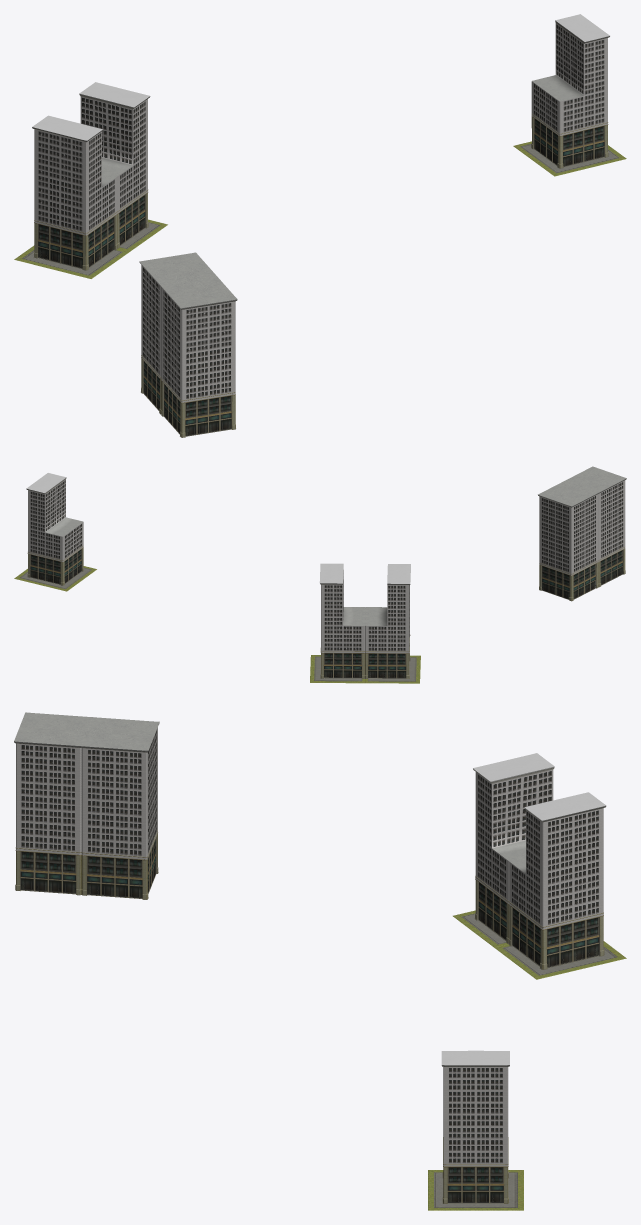
The model's file is Monaco_track_building_city_01.dae.
3 views of the same model, one above another, from view 1: azimuth 30°, elevation 25°; view 2: azimuth 150°, elevation 25°; view 3: azimuth 270°, elevation 25° (orthographic). The views are drawn at different scales.
Parts seen in each view (by area): view 1: building_city_01_02, building_city_01_01, building_city_01_03; view 2: building_city_01_01, building_city_01_02, building_city_01_03; view 3: building_city_01_01, building_city_01_02, building_city_01_03.
Boxes of the visible parts, x1,y1,x2,y2 form: building_city_01_02: (14, 82, 167, 278); building_city_01_01: (139, 252, 237, 437); building_city_01_03: (513, 14, 626, 176); building_city_01_01: (538, 466, 626, 601); building_city_01_02: (310, 563, 420, 683); building_city_01_03: (14, 473, 96, 591); building_city_01_01: (14, 712, 159, 899); building_city_01_02: (453, 753, 626, 979); building_city_01_03: (428, 1050, 523, 1210).
Size of the model in its own units: 110 by 81.72 by 22.12.
Materials: 3 (3 with a texture image).
